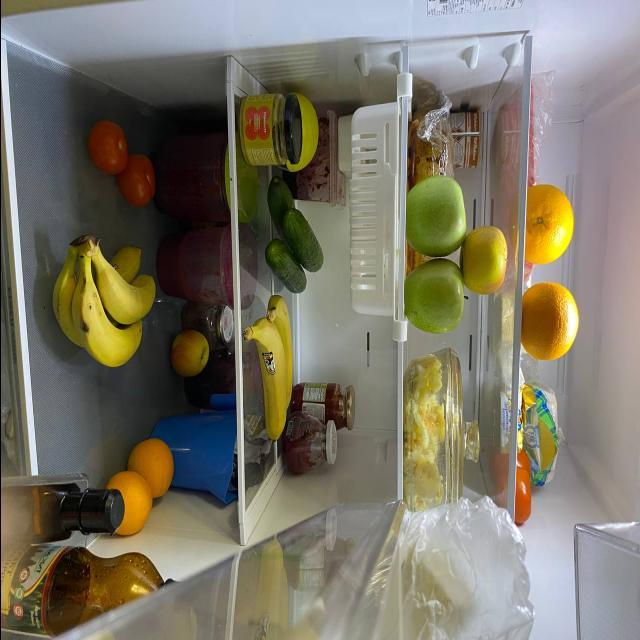Apple: (405, 248, 468, 336), (407, 172, 466, 258), (462, 216, 509, 292), (172, 328, 206, 384)
Banana: (48, 240, 156, 374), (254, 313, 283, 451), (272, 296, 294, 410)
Cucumber: (284, 210, 327, 272), (267, 232, 309, 294), (272, 174, 294, 234)
Orange: (520, 182, 572, 266), (518, 286, 576, 358), (103, 466, 154, 546), (126, 434, 177, 496)
Tomato: (88, 116, 133, 176), (120, 159, 157, 209), (489, 446, 530, 488), (509, 467, 538, 522)
